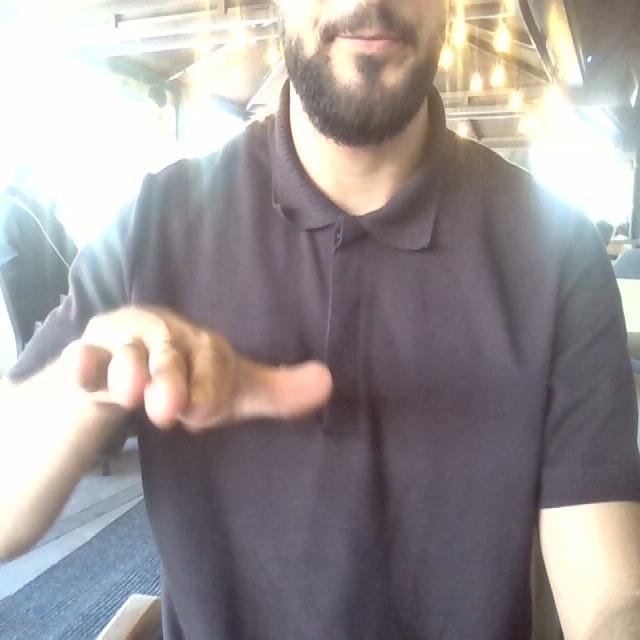Hand: (62, 307, 331, 430)
